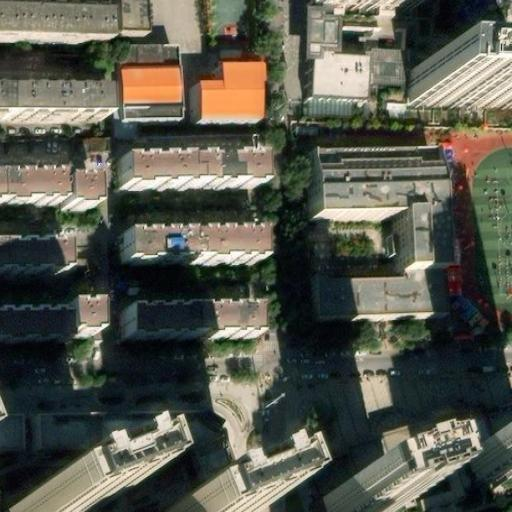building: (312, 143, 450, 268), (367, 48, 512, 99), (317, 267, 451, 316), (307, 1, 369, 101), (0, 461, 120, 512), (114, 166, 256, 200), (119, 238, 259, 272), (122, 43, 182, 120), (123, 305, 254, 337), (200, 62, 266, 119), (410, 67, 511, 104), (111, 131, 260, 152), (458, 437, 512, 485), (0, 241, 65, 273), (182, 487, 248, 512), (45, 179, 80, 213), (55, 309, 89, 338)
